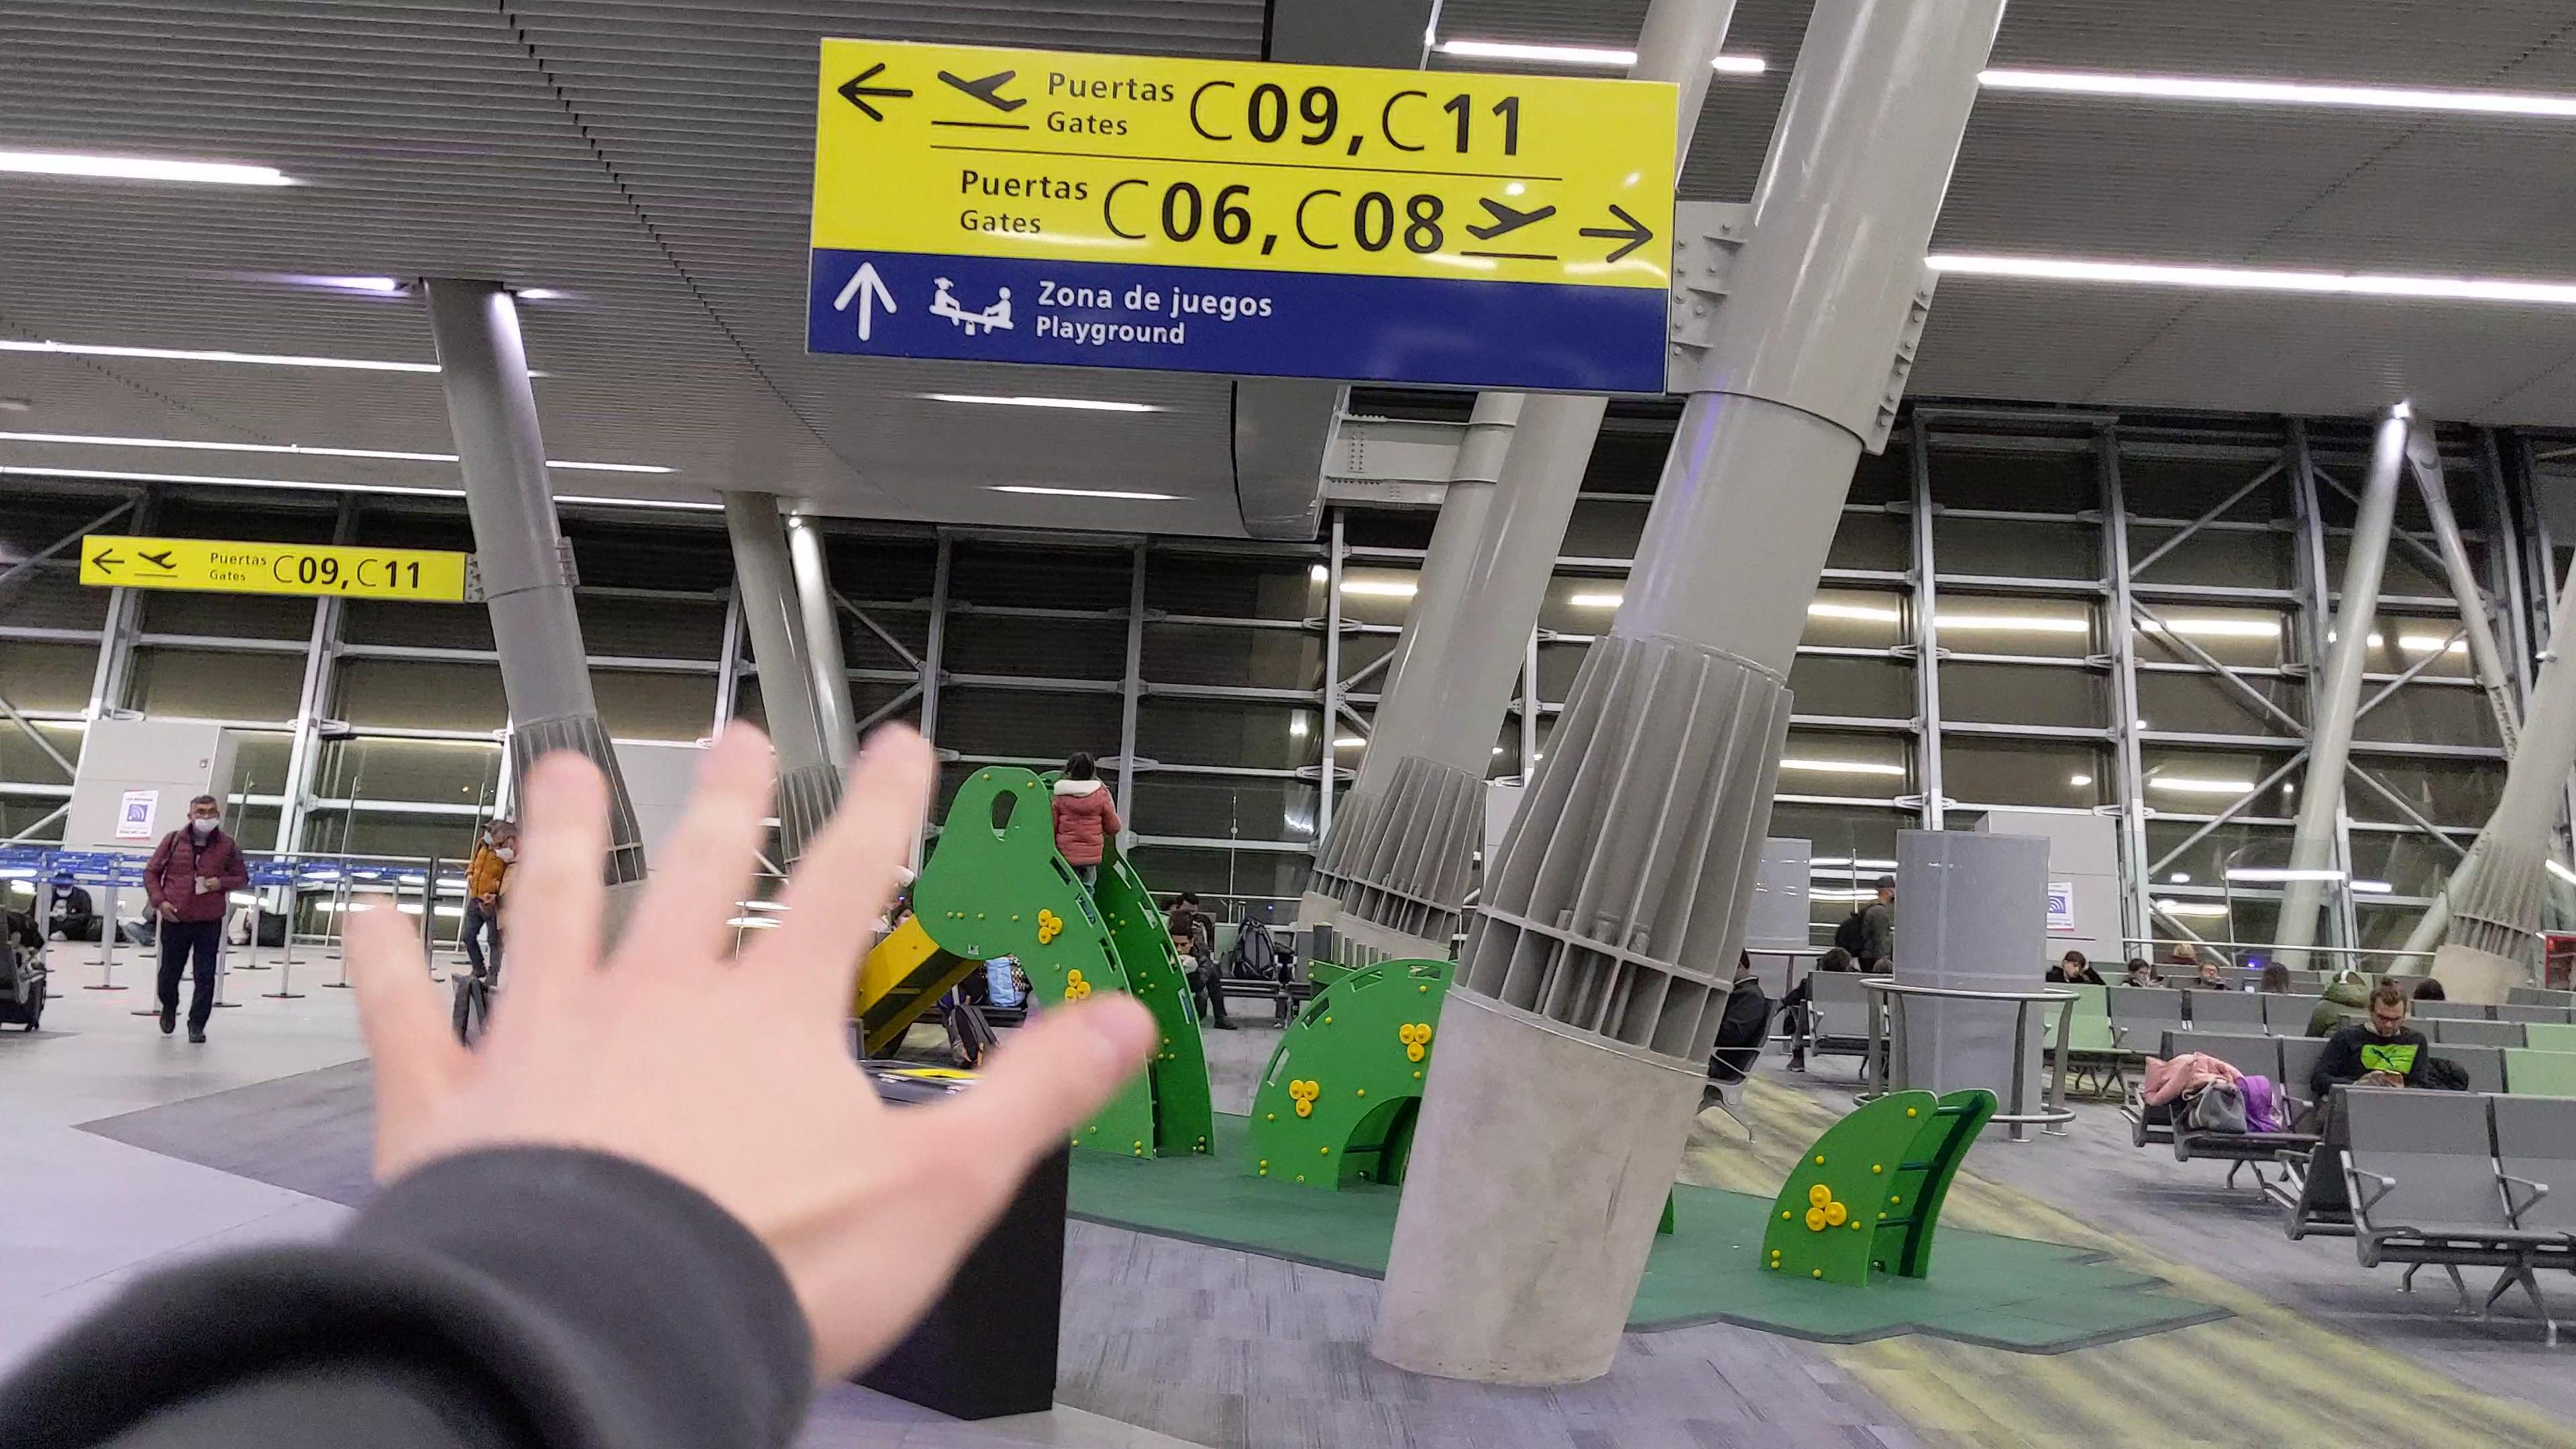airplane symbol: (932, 62, 1030, 120), (1458, 191, 1560, 246)
thin left arrow: (833, 60, 916, 127)
thin right arrow: (1573, 198, 1656, 264)
thin up arrow: (832, 260, 901, 343)
